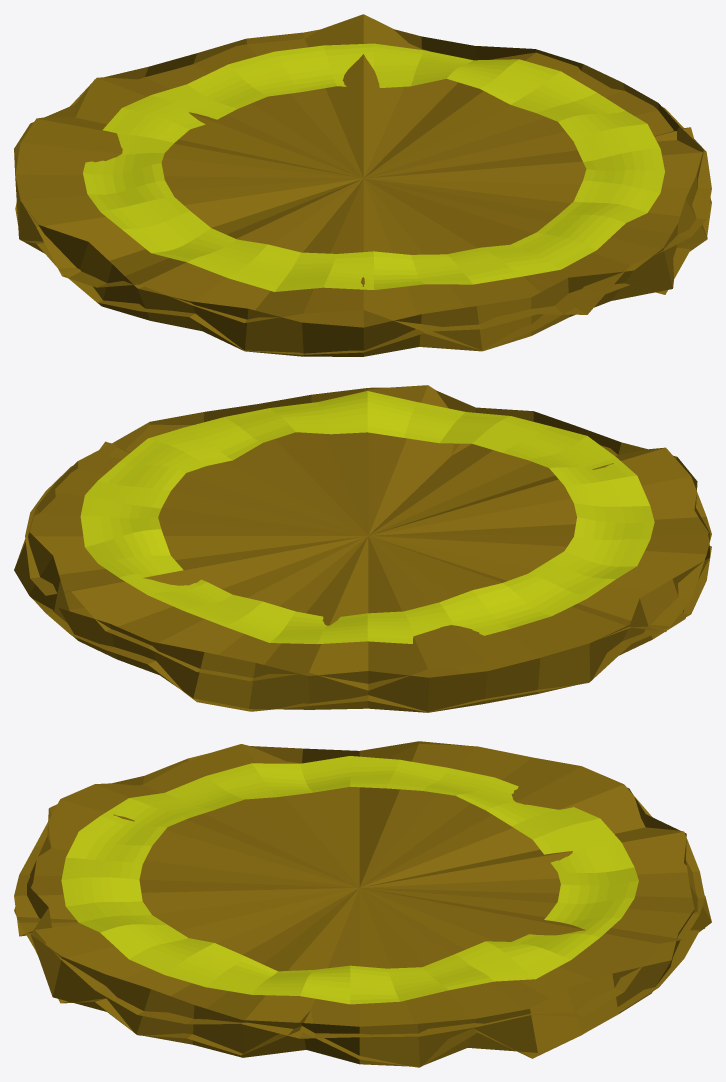
The model's file is clay.fbx.
3 views of the same model, one above another, from view 1: azimuth 30°, elevation 25°; view 2: azimuth 150°, elevation 25°; view 3: azimuth 270°, elevation 25° (orthographic).
Visible parts, largest first — view 1: Cylinder, Disc_1; view 2: Cylinder, Disc_1; view 3: Cylinder, Disc_1.
Part boxes in pixels (left/top/right/bottom): Cylinder: left=14, top=14, right=711, bottom=356; Disc_1: left=83, top=43, right=664, bottom=291; Cylinder: left=14, top=385, right=711, bottom=712; Disc_1: left=80, top=391, right=654, bottom=644; Cylinder: left=14, top=741, right=711, bottom=1067; Disc_1: left=61, top=756, right=638, bottom=1004.
Size of the model in its own units: 88.56 by 9.19 by 89.43.
